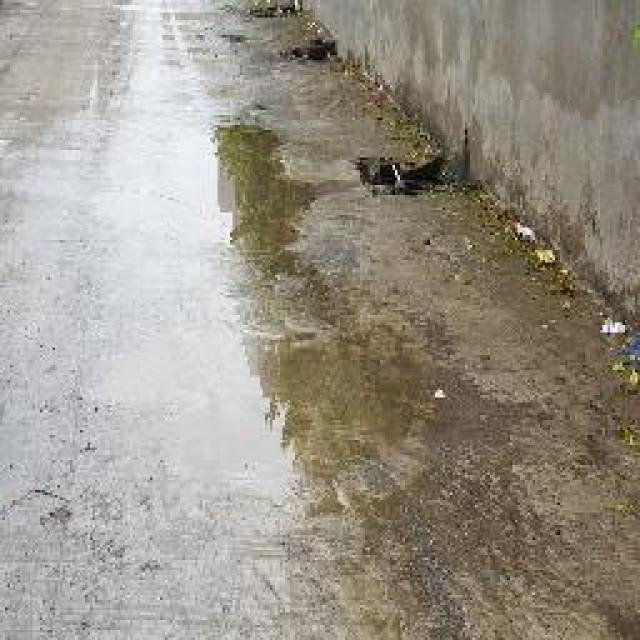stagnation: (83, 103, 324, 255)
